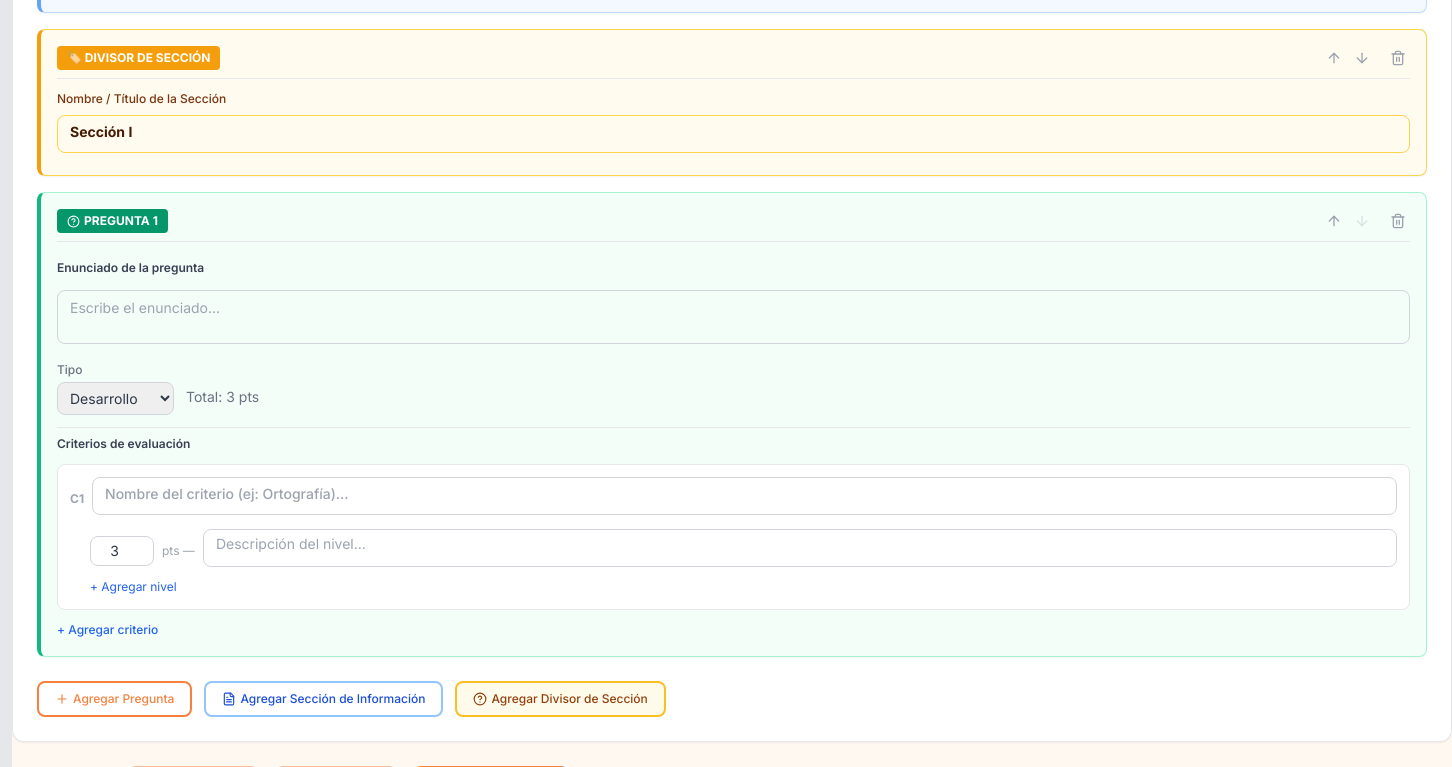
Test: NuevaEvaluacionPage (Tiza) › agrega una pregunta al hacer clic en "Agregar Pregunta"
(page scrolled)
Click the button "Agregar Pregunta": coordinates (115, 699) [37,681,192,717]
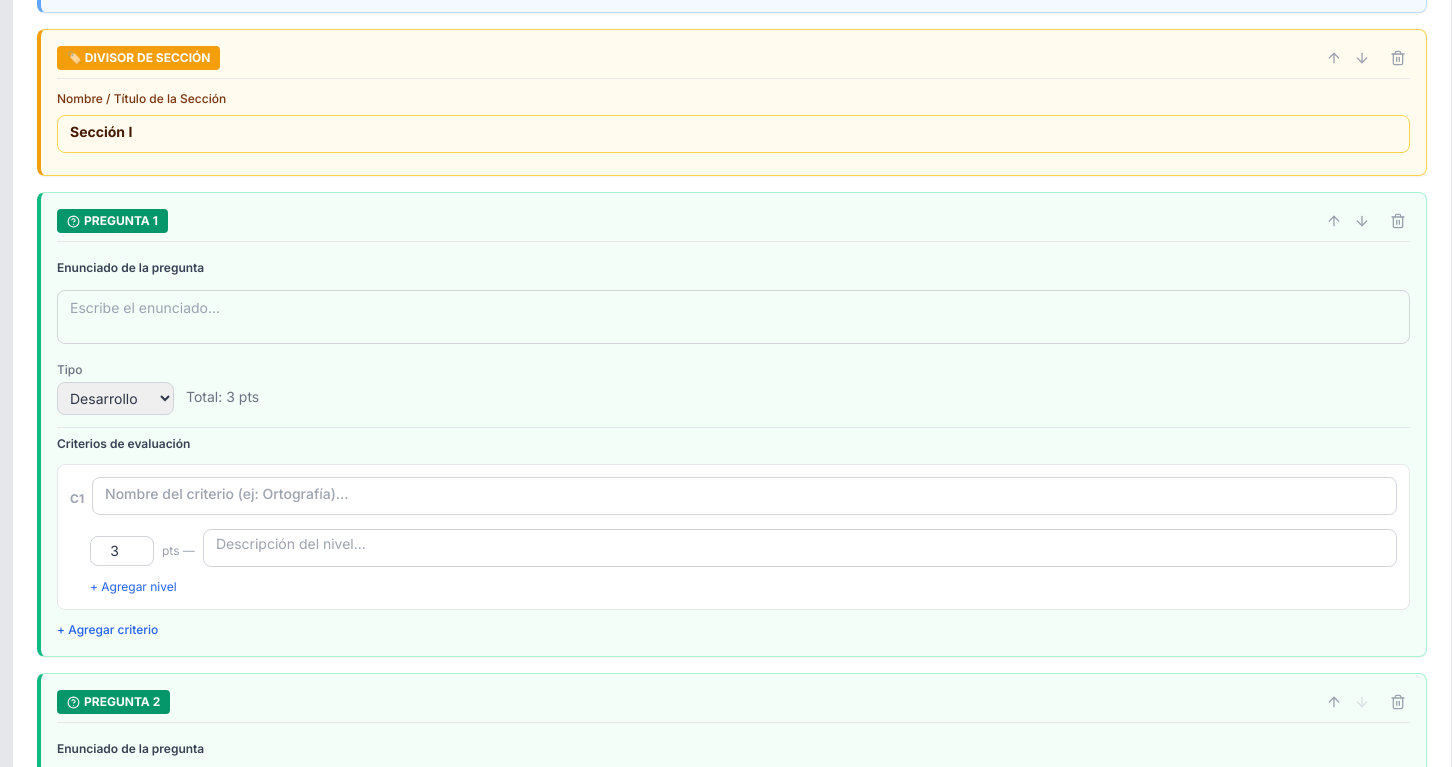
Expected: the text "Pregunta 1" is shown, [84,213,158,229]
Now the text "Pregunta 2" is shown, box [84,694,160,710]
